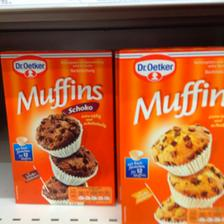Kuchen: (115, 47, 223, 220), (1, 48, 116, 204)
